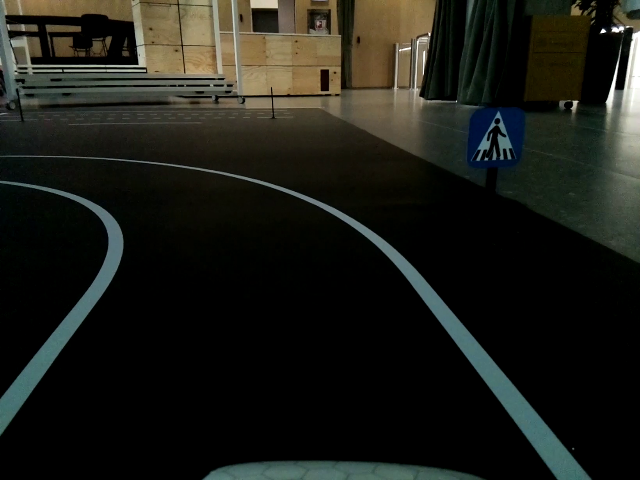pedestrians: (472, 109, 525, 165)
